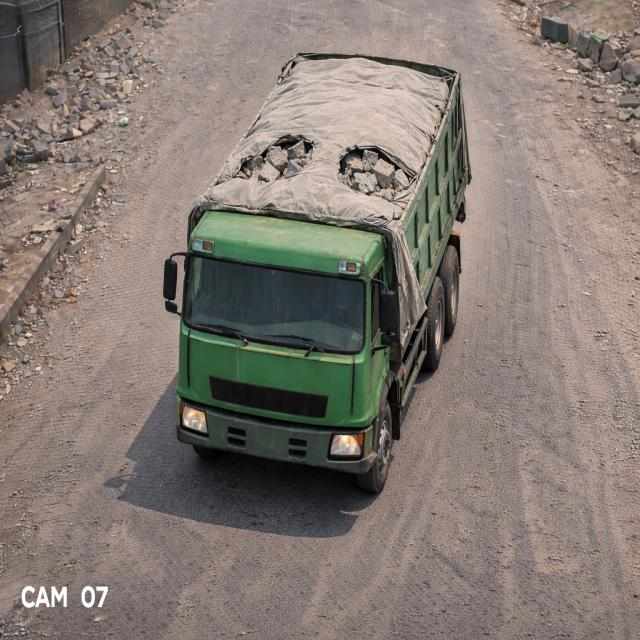trailer: (188, 50, 458, 214)
truck: (163, 54, 469, 494)
